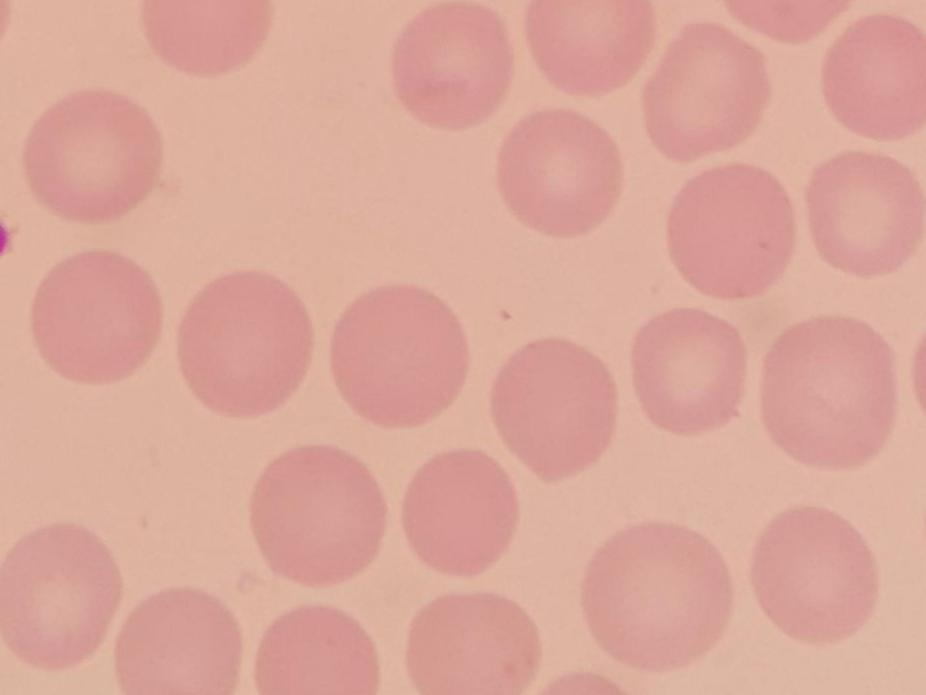Uninfected: (580, 522, 733, 668), (330, 282, 470, 431), (763, 316, 897, 467), (252, 446, 388, 588), (178, 269, 310, 415), (640, 19, 770, 162), (23, 87, 162, 219), (753, 504, 880, 646), (492, 337, 617, 481), (33, 249, 162, 385), (668, 161, 792, 300), (0, 526, 120, 667), (500, 106, 618, 239), (393, 0, 513, 130), (630, 304, 748, 434), (808, 149, 926, 278), (402, 446, 519, 576), (403, 589, 542, 695), (818, 12, 926, 137), (118, 589, 242, 695), (523, 0, 656, 97), (253, 606, 376, 695), (143, 0, 266, 78)
